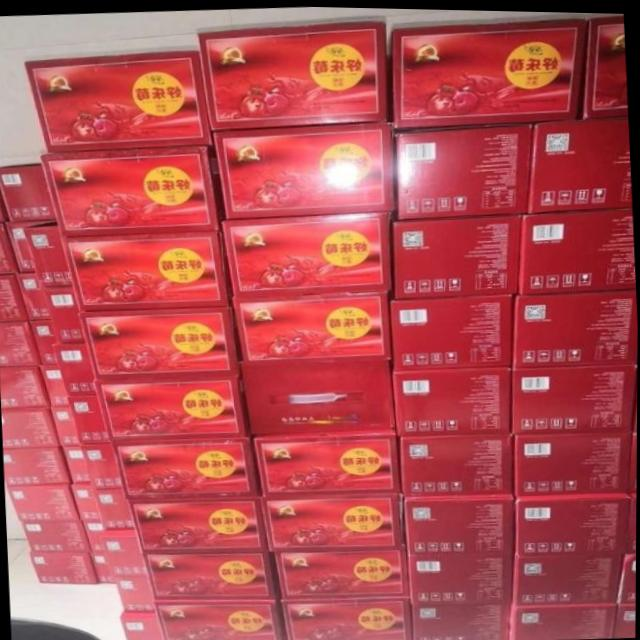box: (388, 10, 587, 125), (197, 13, 388, 129), (25, 44, 214, 152), (213, 119, 396, 219), (40, 143, 226, 236), (220, 211, 393, 297), (60, 230, 233, 311), (394, 121, 531, 218), (77, 304, 243, 381), (232, 289, 394, 364), (242, 358, 396, 435), (392, 211, 523, 297), (94, 374, 250, 441), (253, 426, 400, 497), (518, 205, 636, 292), (529, 113, 633, 210), (512, 286, 638, 364), (112, 434, 259, 500), (391, 292, 513, 370), (510, 361, 638, 433), (259, 490, 405, 551), (395, 364, 511, 436), (129, 497, 268, 554), (516, 489, 631, 554), (514, 429, 630, 493), (274, 546, 410, 600), (398, 434, 513, 494), (403, 492, 514, 553), (144, 551, 282, 599), (510, 550, 626, 603), (408, 550, 514, 605), (281, 597, 412, 640), (153, 599, 286, 640), (580, 10, 628, 117), (509, 601, 615, 639), (412, 602, 510, 640), (0, 163, 56, 222), (24, 220, 72, 287), (7, 485, 80, 523), (4, 447, 72, 487), (6, 219, 53, 273), (2, 407, 59, 450), (40, 286, 83, 342), (53, 341, 97, 395), (80, 441, 125, 491), (103, 529, 148, 578), (0, 365, 49, 410), (30, 552, 97, 584), (70, 394, 111, 444), (23, 524, 92, 553), (93, 489, 138, 530), (0, 321, 39, 368), (16, 273, 48, 320), (38, 363, 71, 407), (29, 319, 59, 364), (0, 275, 27, 324), (116, 577, 156, 610), (50, 405, 80, 447), (122, 611, 165, 640), (71, 482, 101, 522), (60, 446, 91, 483), (617, 550, 637, 601), (613, 601, 637, 636), (0, 223, 16, 275), (624, 488, 637, 549), (92, 551, 115, 583), (83, 521, 107, 551), (628, 430, 638, 489), (0, 184, 10, 222)
